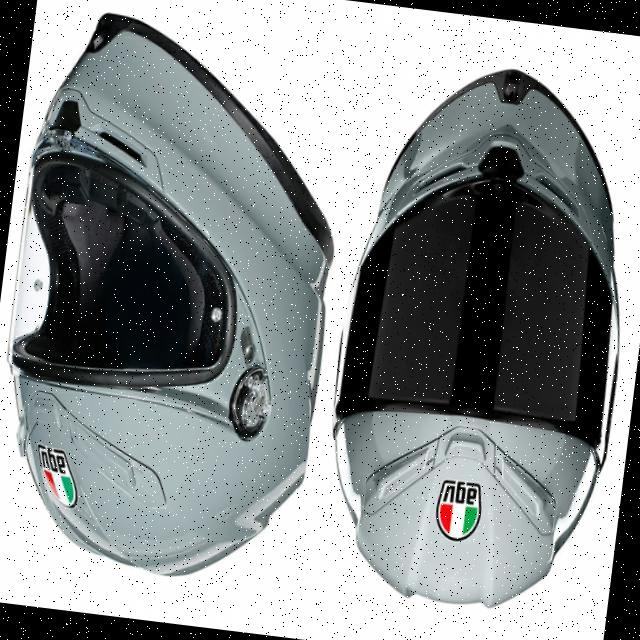Helm: (0, 5, 363, 601), (307, 51, 640, 627)
